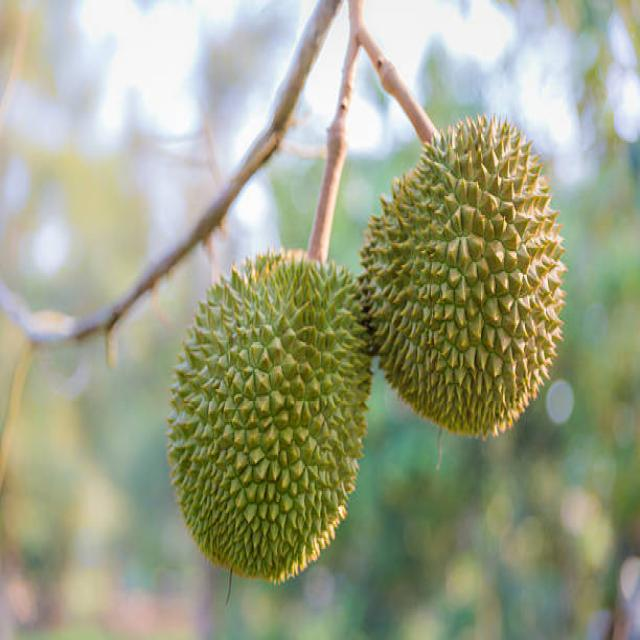immature: (168, 235, 376, 586), (362, 116, 570, 442)
